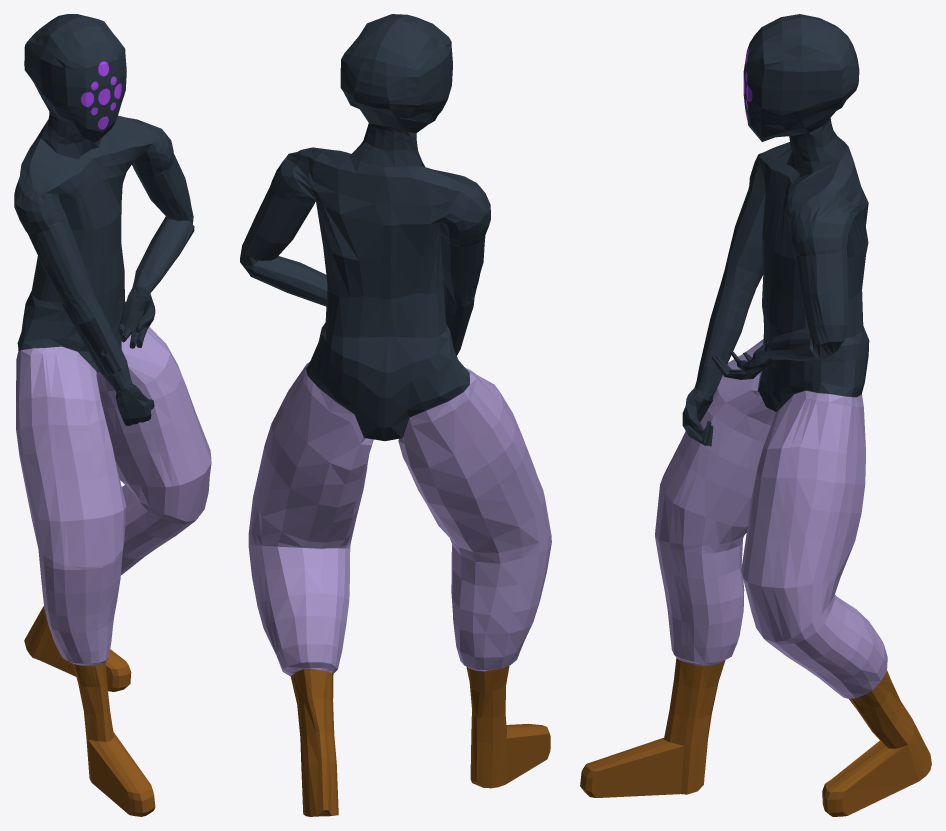
The model's file is Oracle_WF_000019.obj.
3 renders of one model, left to right at view 1: azimuth 30°, elevation 25°; view 2: azimuth 150°, elevation 25°; view 3: azimuth 270°, elevation 25°, orthographic. The views are drawn at different scales.
Parts seen in each view (by area): view 1: Cube; view 2: Cube; view 3: Cube.
Boxes of the visible parts, <box> form: Cube: <box>14,14,211,816</box>; Cube: <box>240,14,551,816</box>; Cube: <box>580,14,931,816</box>.
Bounding box in the file's own units: 1.19 × 3.83 × 1.54.
